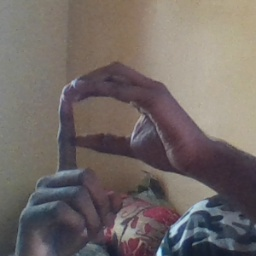P: (41, 61, 196, 227)
